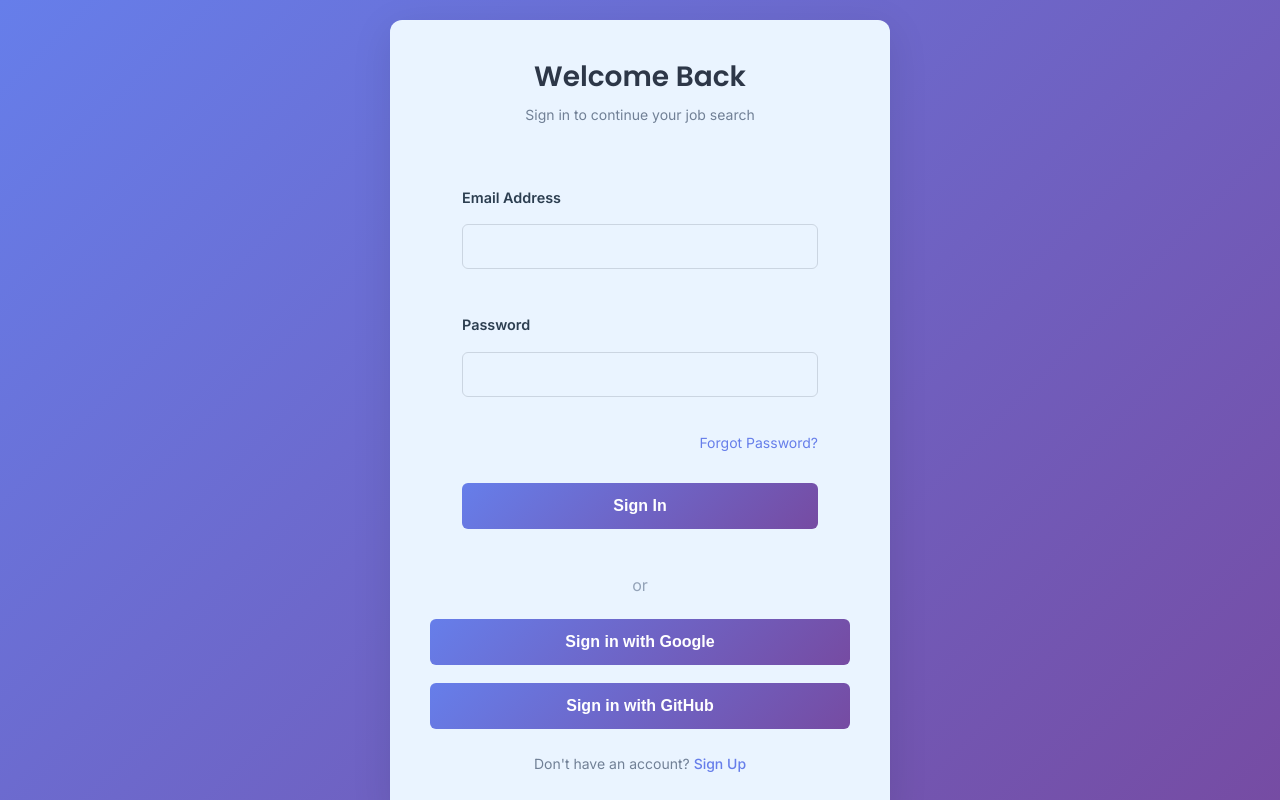
Test case: Login › handles missing pending credential and cancelled prompt by showing linking message
Step 1. Click the button "Sign in with GitHub" → (640, 706), box [430,683,850,729]
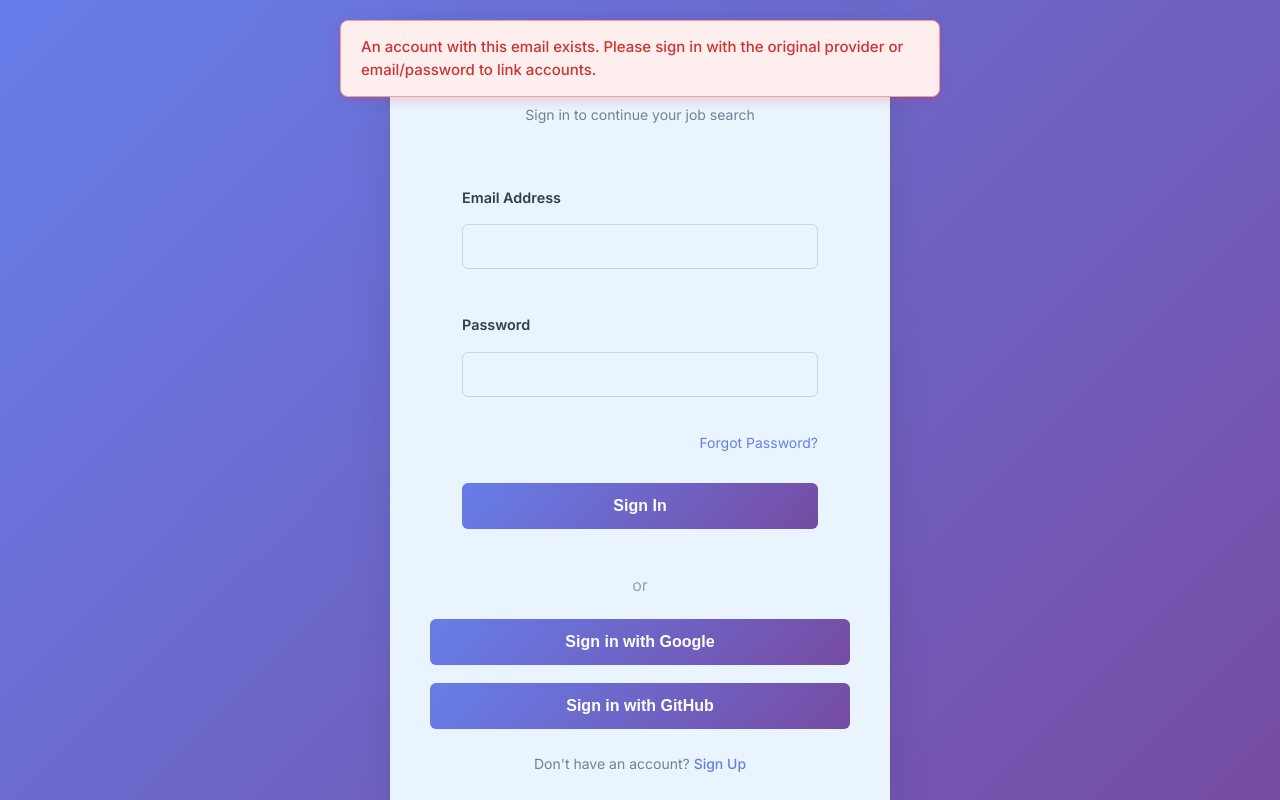
Now the text "An account with this email exists. Please sign in with the original provider or email/password to link accounts." is shown, box [361,37,903,78]
